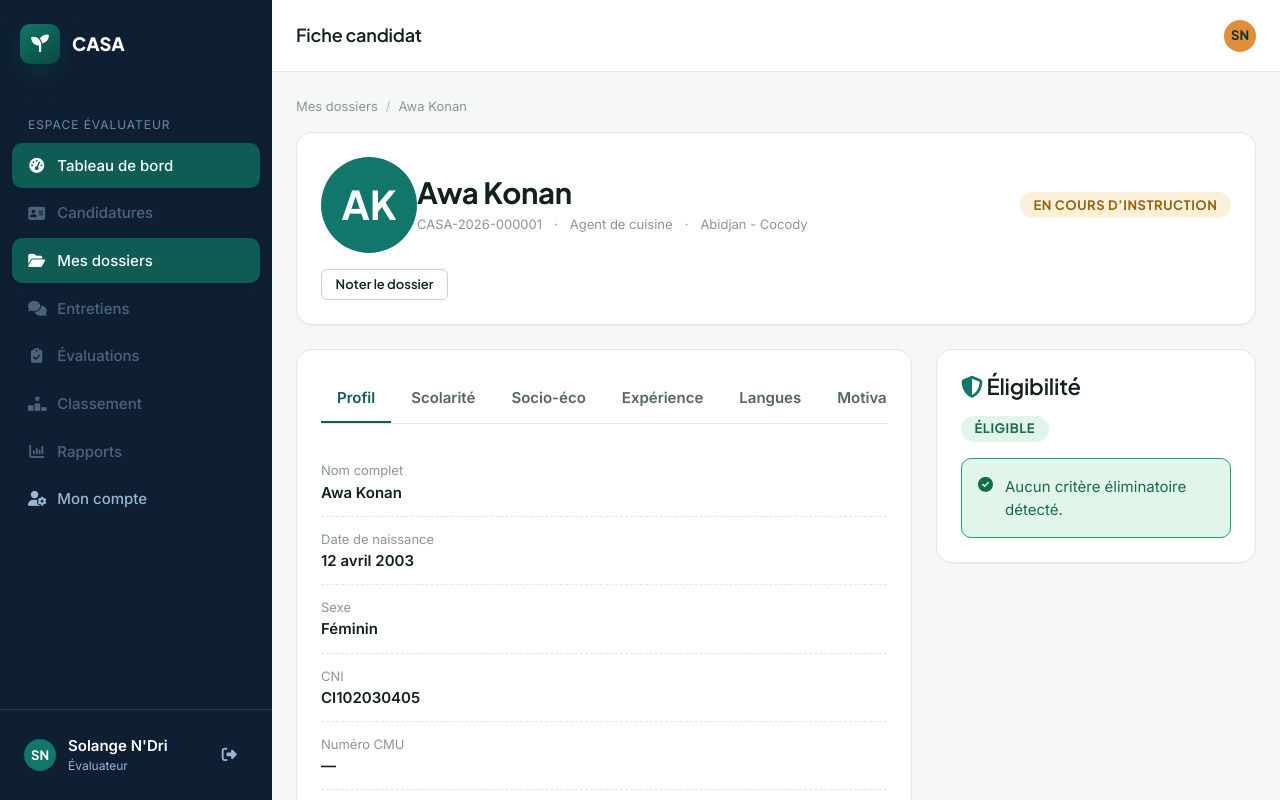
FicheCandidat — la zone 🔴 est affichée LÉGITIMEMENT (inversion de posture) › statut interne, réponses déclarées : tout est visible
The image size is (1280, 800).
Expected: the heading "Awa Konan" is shown, [417,174,572,211]
Expected: the text "En cours d’instruction" is shown, [1020,192,1231,218]
What coordinates should you click on to do the following:
click the button "Scolarité"
I would click on:
 (443, 399)
Its box is [395,374,491,423].
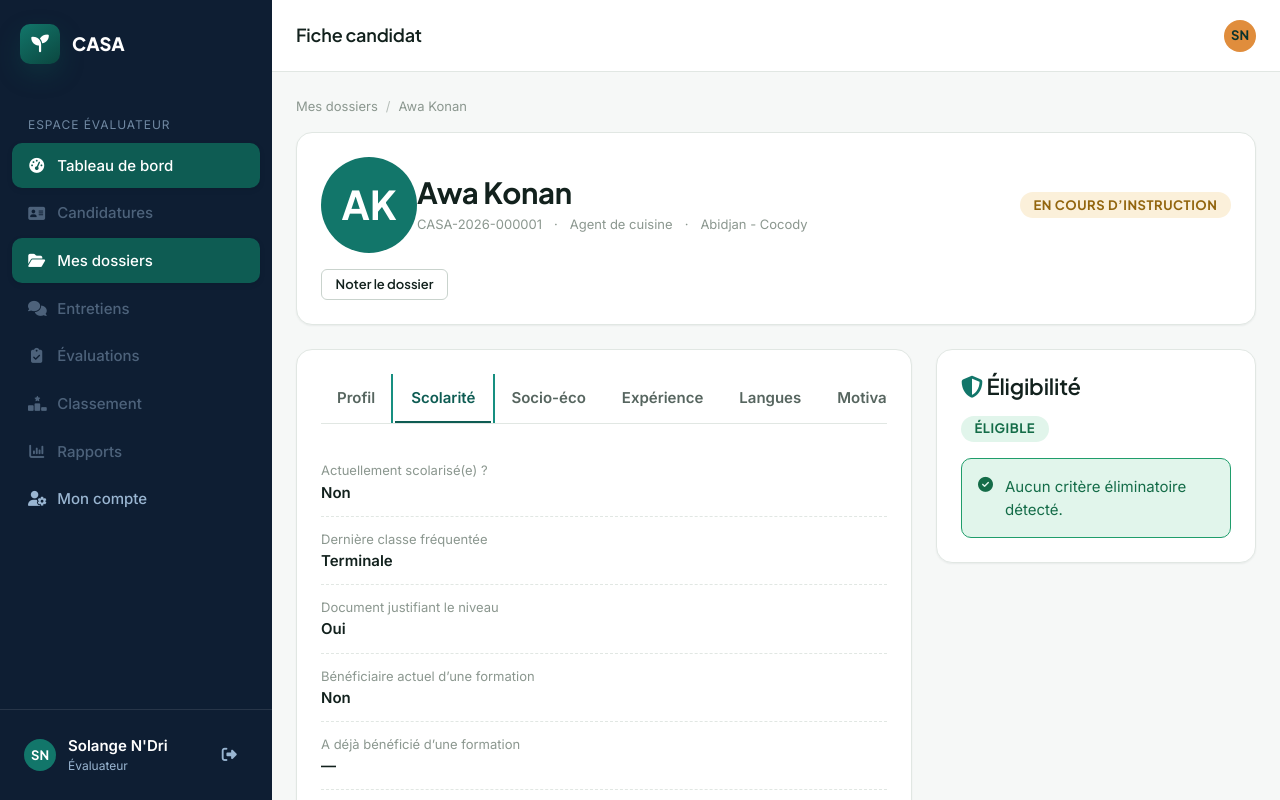
Expected: the text "Non" below "Actuellement scolarisé(e) ?" is shown, [321,482,351,502]
Expected: the text "Terminale" is shown, [321,551,393,570]
